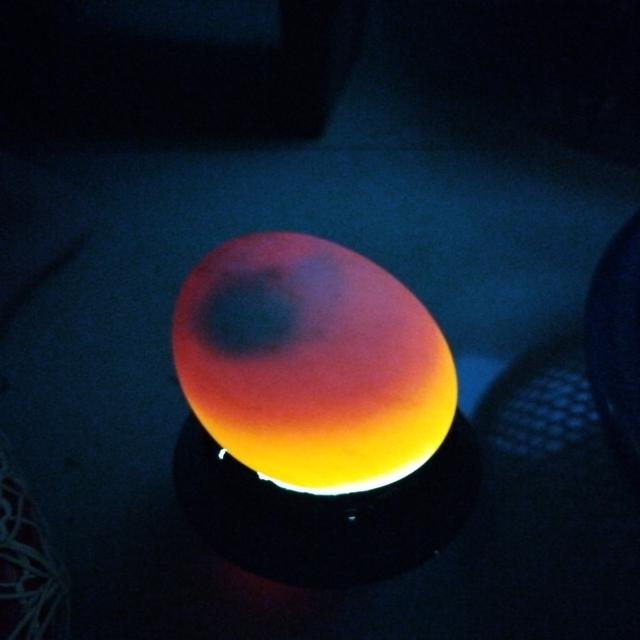Area Infectada: (187, 244, 354, 361)
